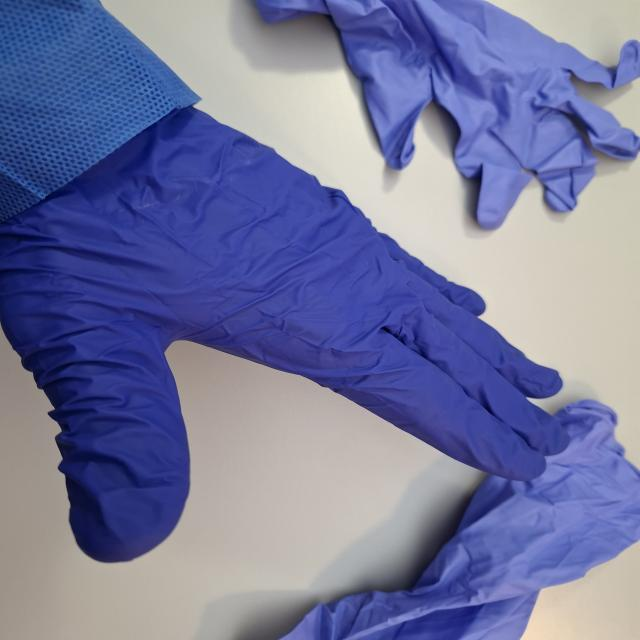glove_on: (0, 99, 573, 566)
